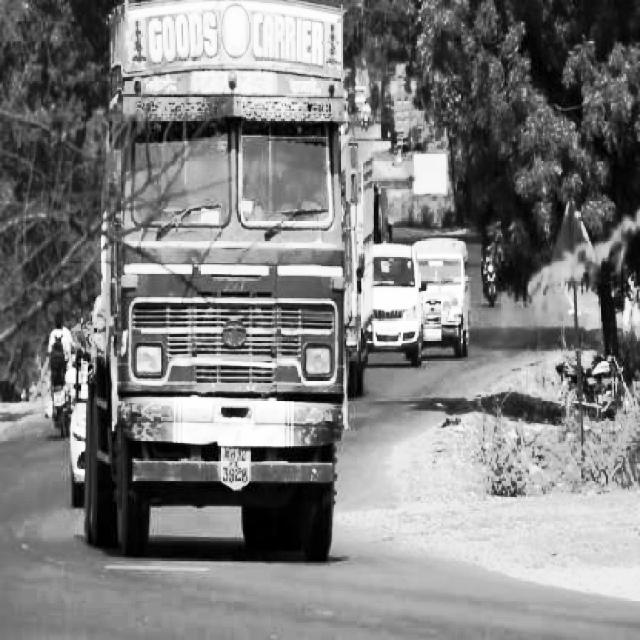HCV: (100, 28, 344, 536)
